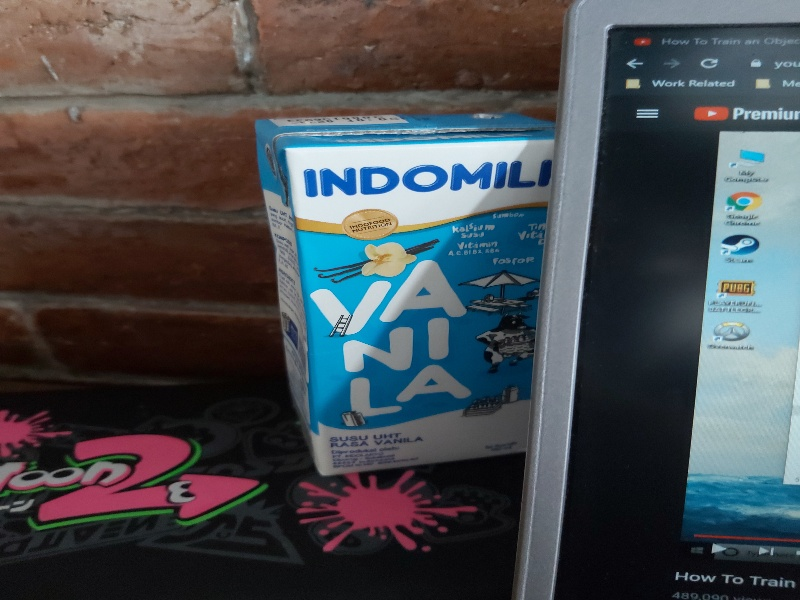vanilla: (253, 108, 560, 473)
